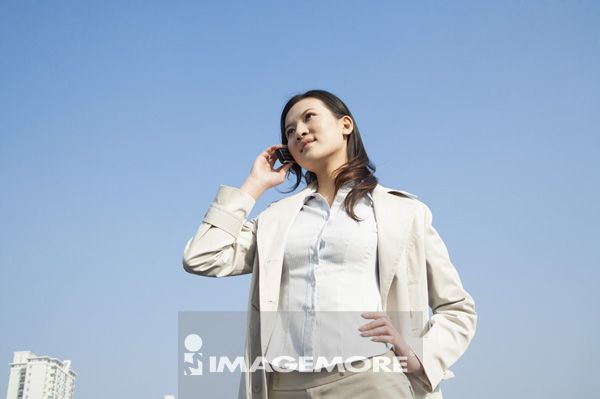talk: (247, 106, 328, 195)
